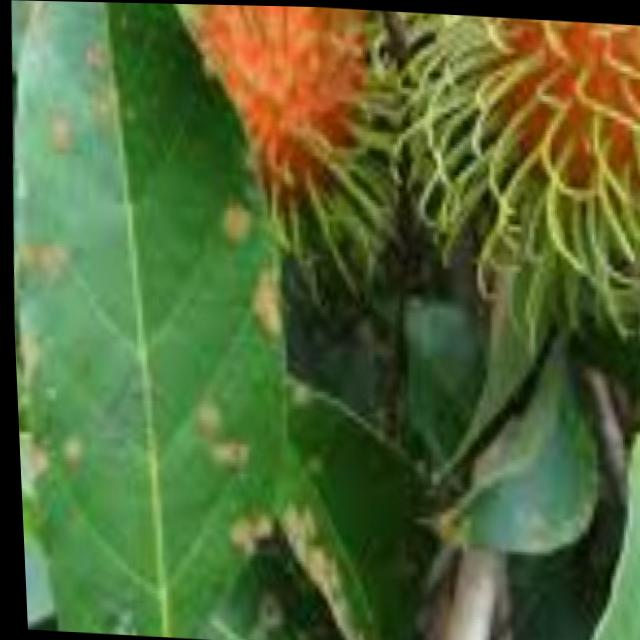Algal Leaf Spot: (177, 371, 239, 493), (76, 21, 134, 130), (33, 405, 98, 494), (207, 172, 263, 264), (16, 226, 86, 287), (244, 275, 293, 360), (41, 96, 89, 174)
